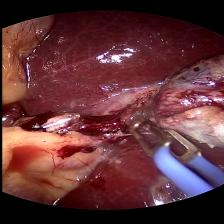Bipolar: (124, 116, 220, 192)
